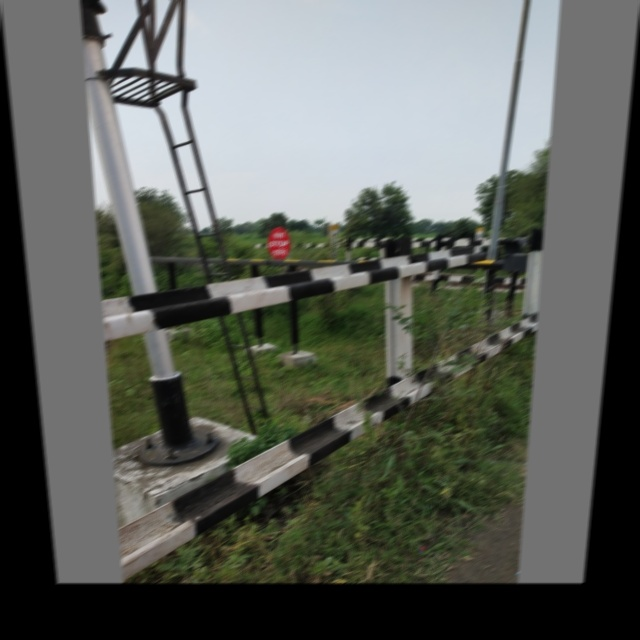Stop: (266, 226, 290, 260)
